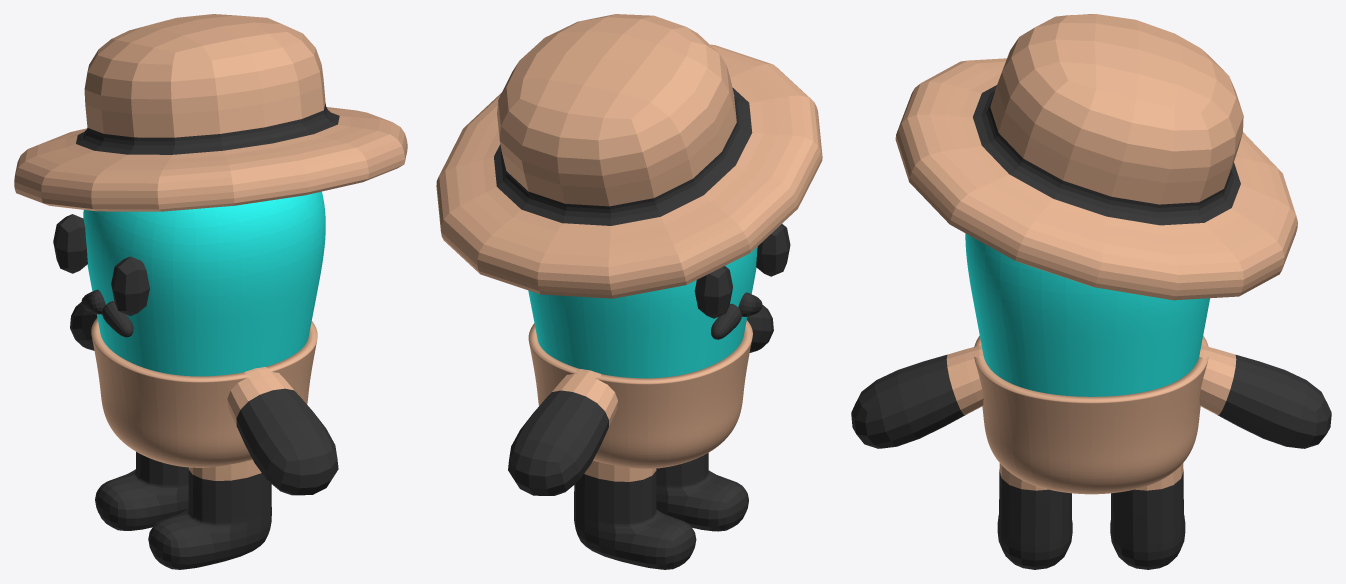
The model's file is Bigotudo.fbx.
The picture shows the model from 3 angles, left to right: view 1: azimuth 30°, elevation 25°; view 2: azimuth 150°, elevation 25°; view 3: azimuth 270°, elevation 25°; orthographic projection. The views are drawn at different scales.
Parts seen in each view (by area): view 1: Cube.031; view 2: Cube.031; view 3: Cube.031.
Boxes of the visible parts, x1=… form: Cube.031: x1=14, y1=14, x2=407, y2=569; Cube.031: x1=436, y1=14, x2=822, y2=569; Cube.031: x1=851, y1=14, x2=1331, y2=569.
Bounding box in the file's own units: 390 × 554 × 452.
